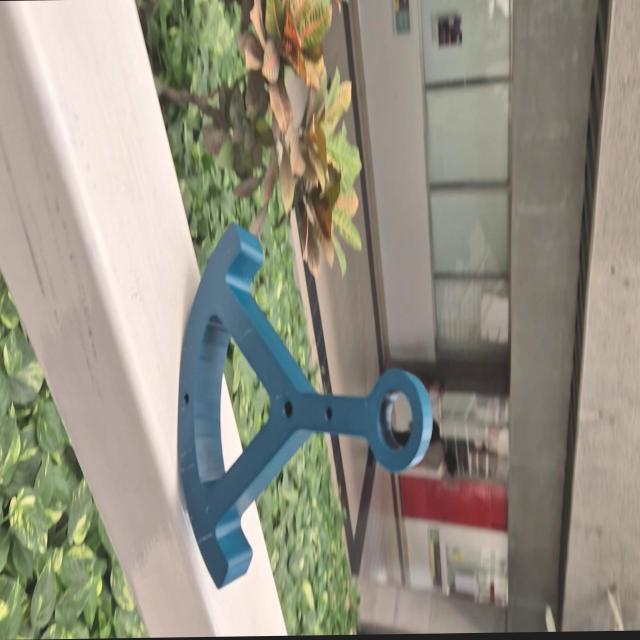haptic: (177, 215, 435, 591)
